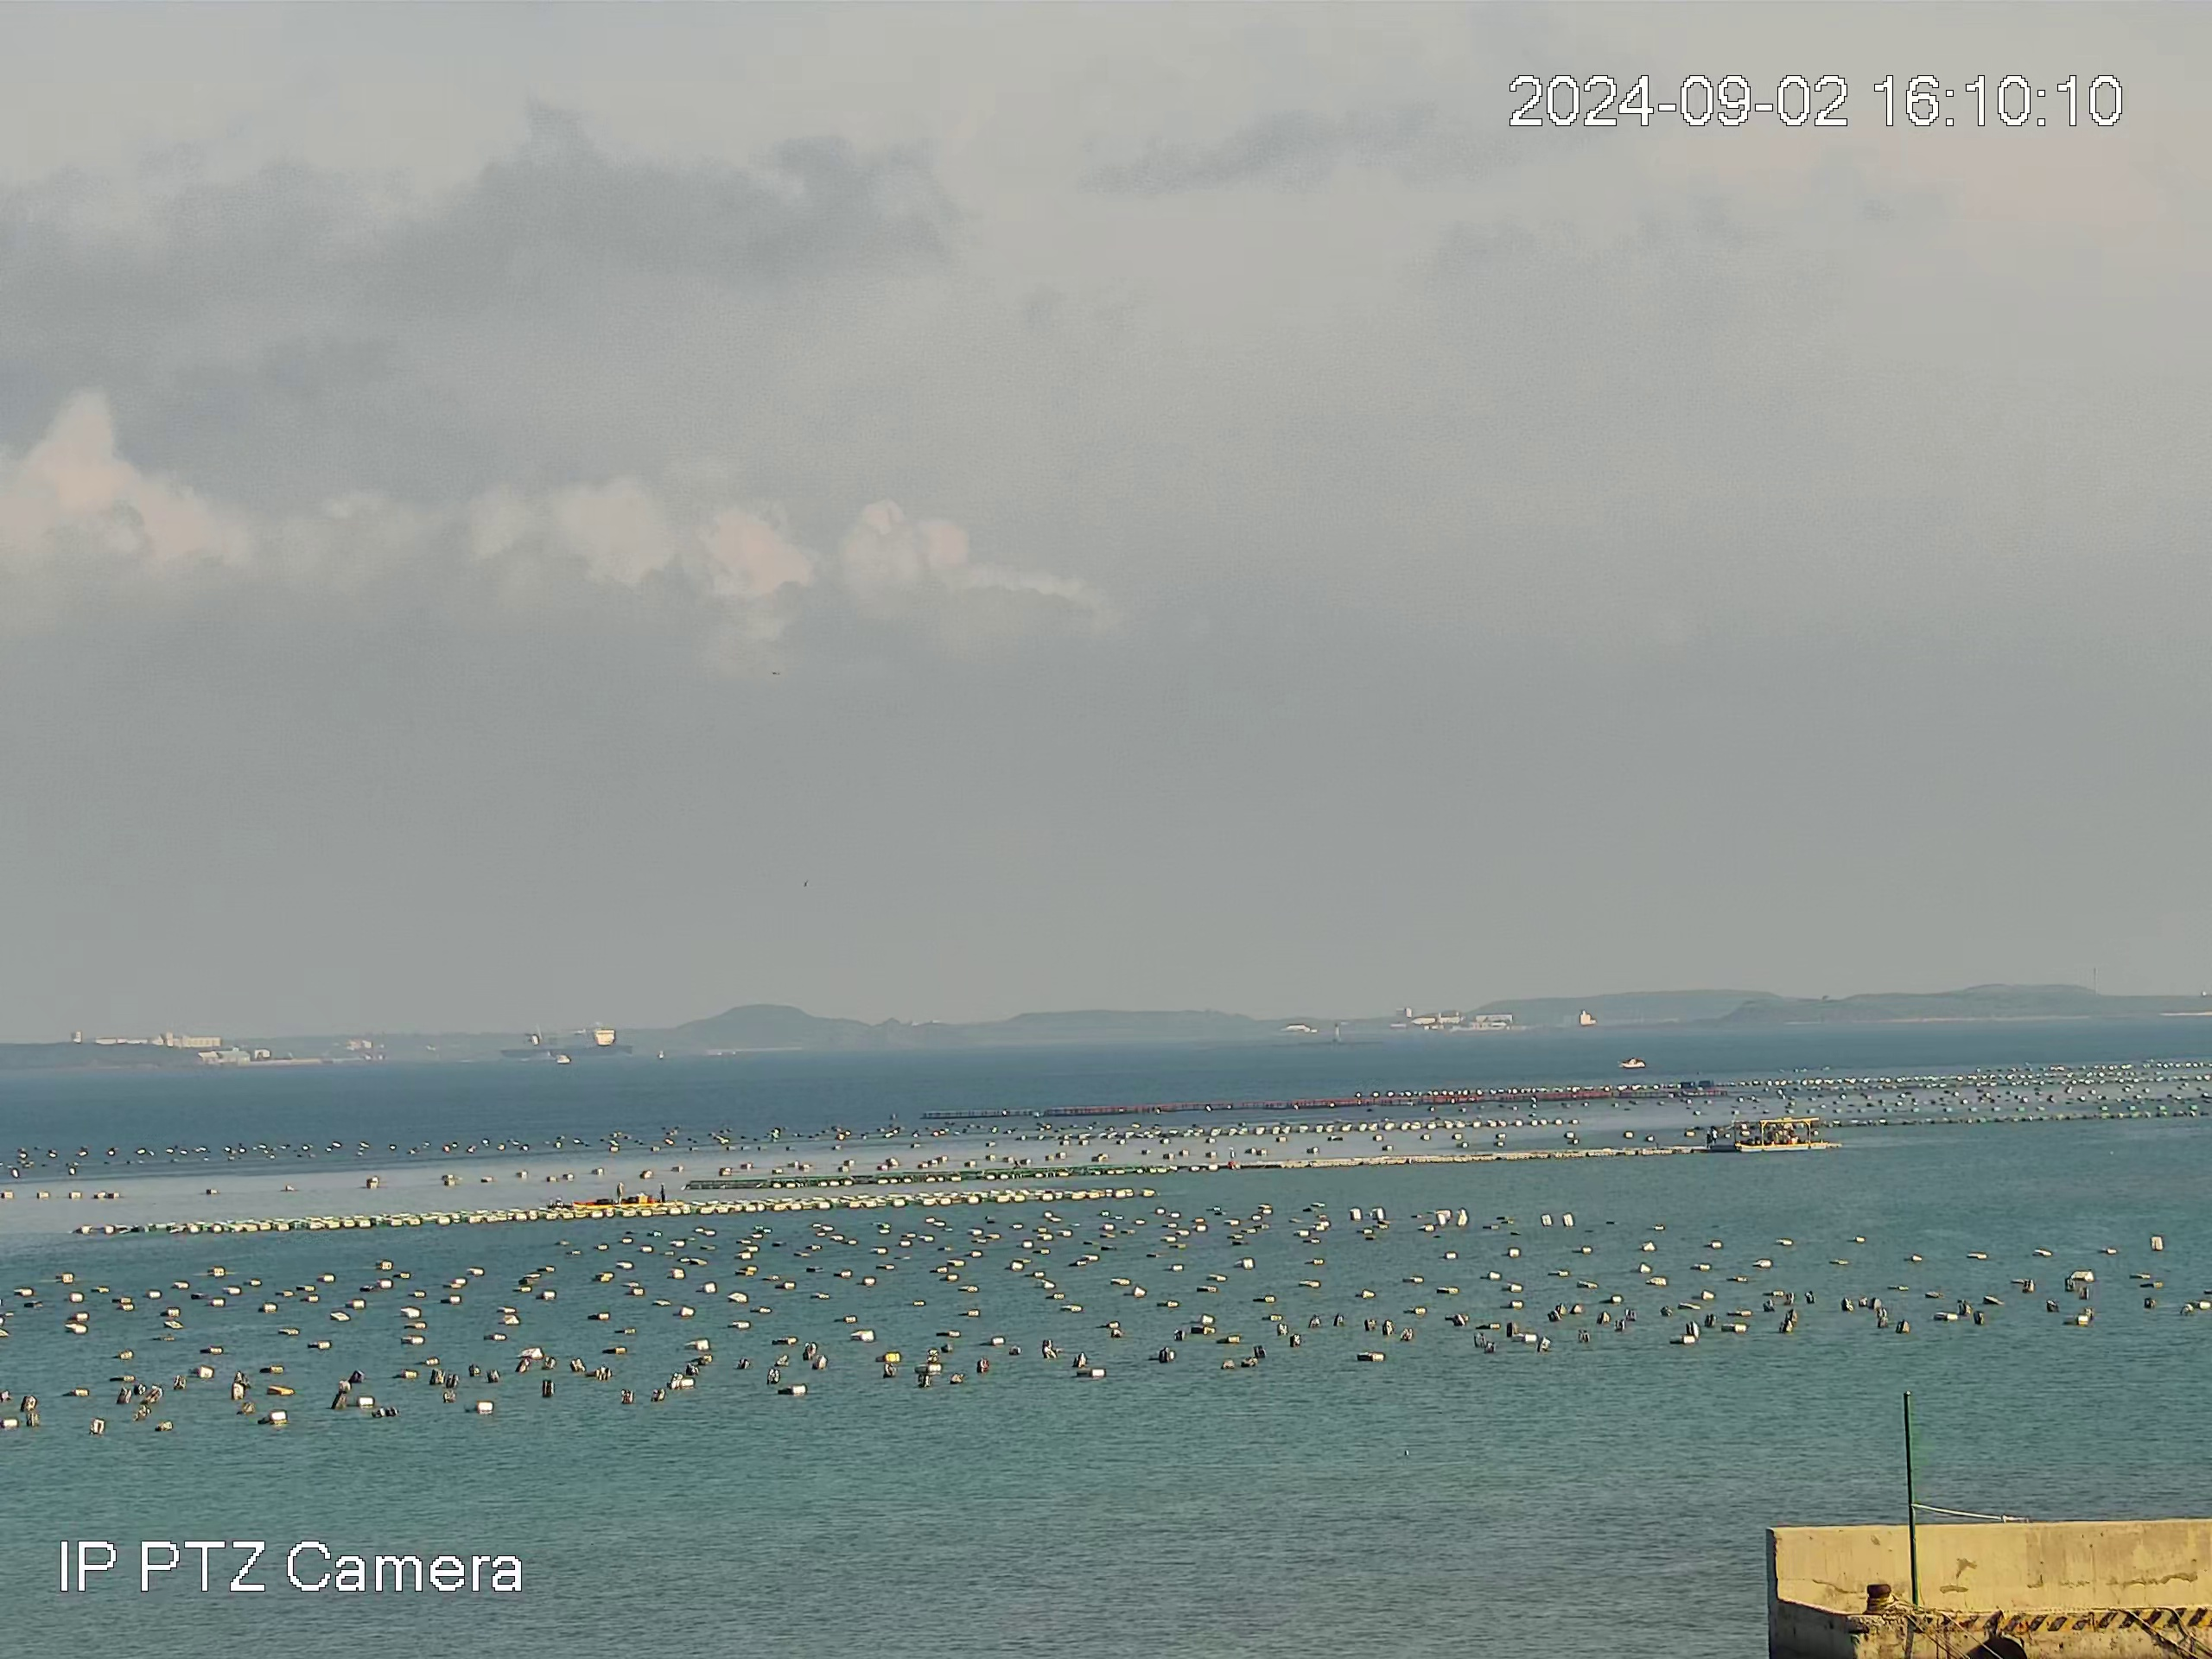boat: (500, 1028, 634, 1060), (570, 1180, 685, 1209), (1733, 1117, 1831, 1152), (1618, 1056, 1648, 1070)
